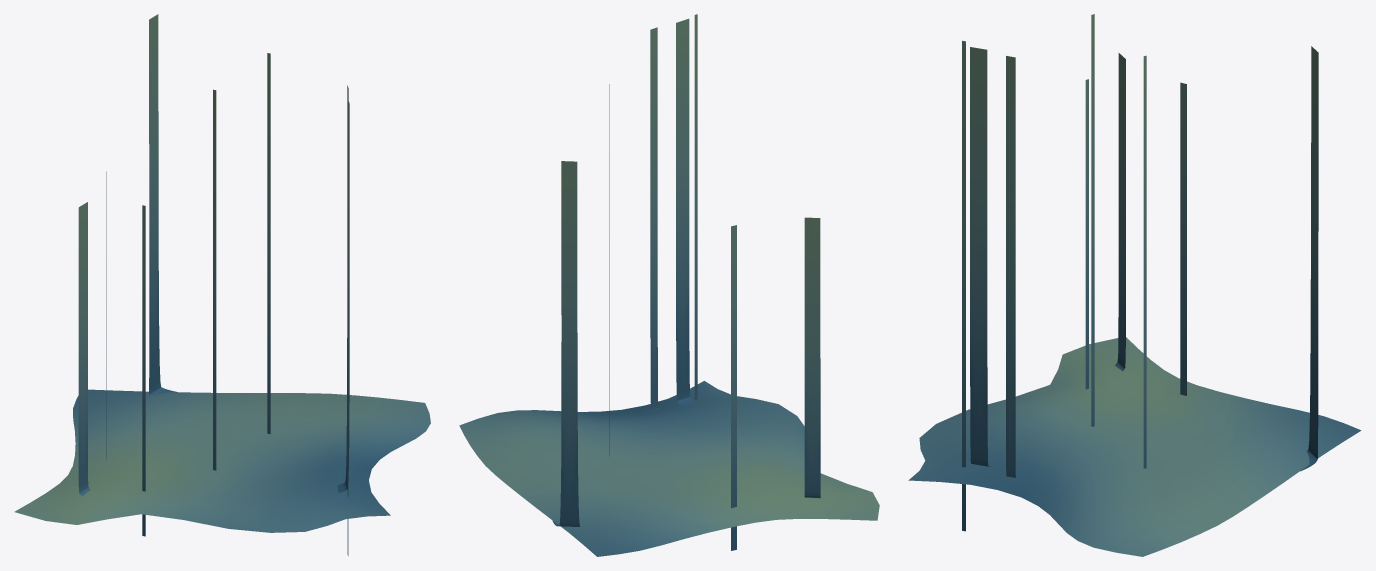
File: SM_Water.fbx
The picture shows the model from 3 angles, left to right: view 1: azimuth 30°, elevation 25°; view 2: azimuth 150°, elevation 25°; view 3: azimuth 270°, elevation 25°; orthographic projection. The views are drawn at different scales.
Parts seen in each view (by area): view 1: SM_Water1, SM_Water_drop_18, SM_Water_drop_13, SM_Water_drop_16, SM_Water_drop_15, SM_Water_drop_11, SM_Water_drop_17, SM_Water_drop_10; view 2: SM_Water1, SM_Water_drop_18, SM_Water_drop_11, SM_Water_drop_13, SM_Water_drop_12, SM_Water_drop_14, SM_Water_drop_10; view 3: SM_Water1, SM_Water_drop_11, SM_Water_drop_12, SM_Water_drop_18, SM_Water_drop_13, SM_Water_drop_14, SM_Water_drop_10, SM_Water_drop_16, SM_Water_drop_15, SM_Water_drop_17.
Part boxes in pixels (x1,y1,x2,y2): SM_Water1: (14,389,430,532); SM_Water_drop_18: (149,14,177,395); SM_Water_drop_13: (78,202,90,495); SM_Water_drop_16: (267,53,270,433); SM_Water_drop_15: (213,89,216,470); SM_Water_drop_11: (337,97,349,492); SM_Water_drop_17: (142,205,145,536); SM_Water_drop_10: (347,103,348,555); SM_Water1: (459,381,879,556); SM_Water_drop_18: (552,161,579,526); SM_Water_drop_11: (676,18,694,406); SM_Water_drop_13: (804,217,820,498); SM_Water_drop_12: (650,27,658,410); SM_Water_drop_14: (731,225,736,550); SM_Water_drop_10: (694,14,697,399); SM_Water1: (908,337,1361,556); SM_Water_drop_11: (970,47,991,466); SM_Water_drop_12: (1006,56,1015,477); SM_Water_drop_18: (1300,46,1318,471); SM_Water_drop_13: (1115,53,1125,371); SM_Water_drop_14: (1180,82,1186,395); SM_Water_drop_10: (962,40,965,531); SM_Water_drop_16: (1143,55,1146,468); SM_Water_drop_15: (1091,14,1094,426); SM_Water_drop_17: (1085,79,1088,389).
Bounding box in the file's own units: 816 × 841 × 705.
